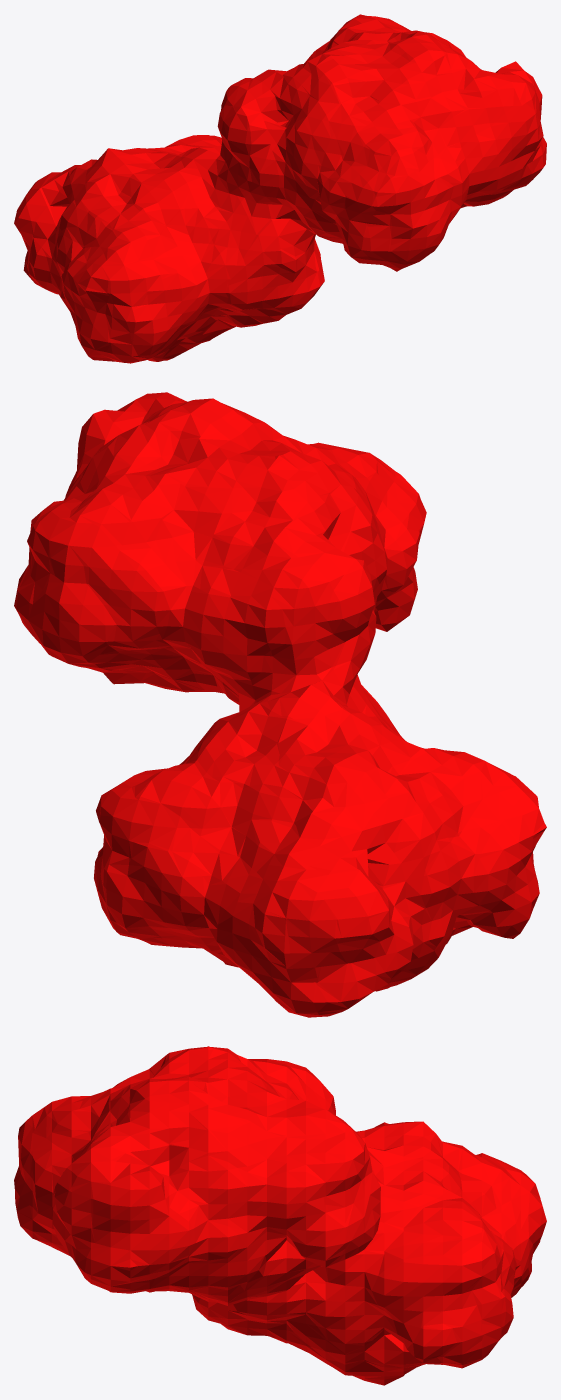
The model's file is fabI_coarse.dae.
3 views of the same model, one above another, from view 1: azimuth 30°, elevation 25°; view 2: azimuth 150°, elevation 25°; view 3: azimuth 270°, elevation 25° (orthographic). The views are drawn at different scales.
Parts seen in each view (by area): view 1: fabI; view 2: fabI; view 3: fabI.
Boxes of the visible parts, bbox=[...] form: fabI: bbox=[14, 14, 546, 363]; fabI: bbox=[14, 392, 546, 1017]; fabI: bbox=[14, 1046, 546, 1385].
Bounding box in the file's own units: 130 × 100 × 128.
